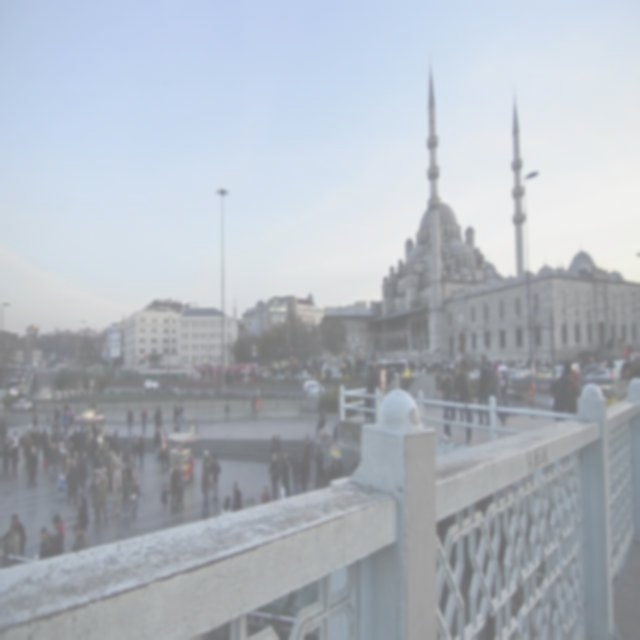pessoa: (22, 400, 128, 506), (268, 430, 314, 506), (250, 348, 334, 387), (152, 422, 185, 518), (548, 356, 582, 422), (453, 360, 475, 446), (396, 352, 446, 389), (452, 352, 475, 424), (0, 512, 27, 564), (326, 442, 358, 484), (438, 364, 454, 444), (477, 354, 493, 430), (93, 464, 111, 531), (488, 364, 506, 427), (361, 362, 377, 426), (199, 448, 213, 521), (495, 355, 513, 408), (110, 454, 124, 520), (612, 358, 633, 402), (46, 513, 66, 559), (128, 466, 142, 522), (70, 522, 91, 554), (334, 418, 359, 444), (38, 526, 56, 562), (628, 334, 640, 384), (8, 436, 20, 482), (313, 446, 325, 490), (212, 452, 222, 503), (245, 390, 262, 420), (230, 478, 244, 512), (170, 396, 187, 424), (1, 433, 10, 484), (0, 409, 9, 455), (614, 332, 630, 356), (130, 432, 140, 470), (315, 407, 327, 437), (315, 386, 327, 414), (138, 433, 146, 472), (126, 404, 134, 439), (140, 406, 149, 436), (153, 402, 163, 429), (220, 494, 232, 516), (260, 484, 272, 506), (222, 398, 232, 422), (92, 470, 100, 498), (78, 488, 87, 511), (13, 430, 19, 438)
